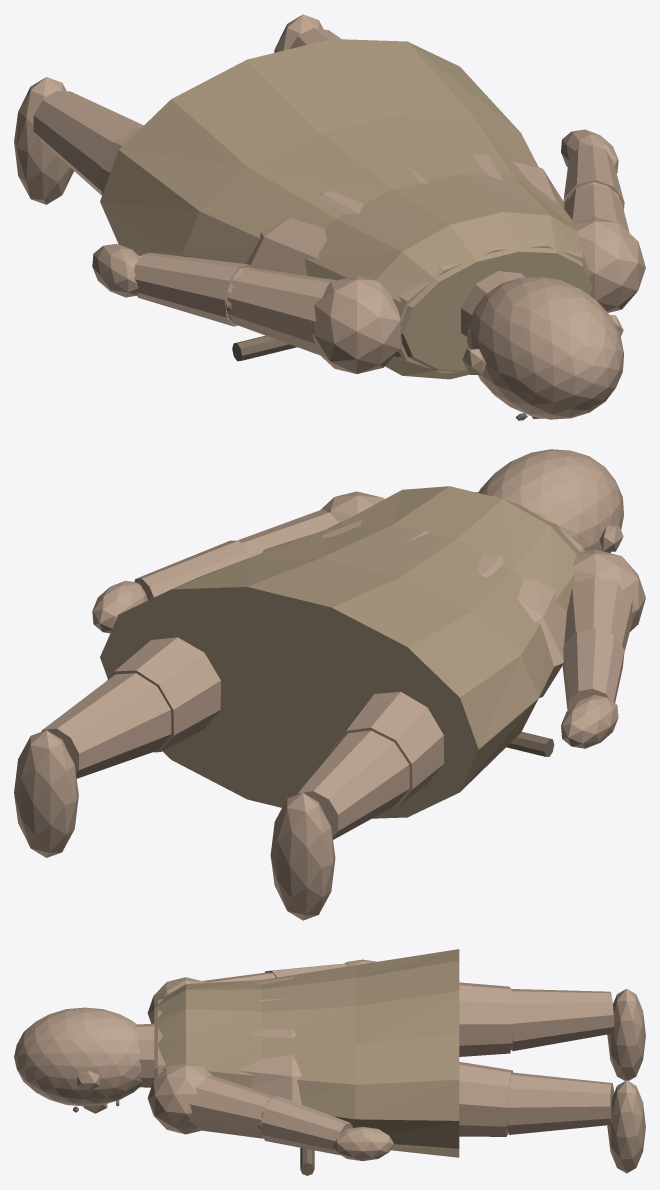
Rendered from woman_stocky__plain_base.glb.
3 renders of one model, top to bottom at view 1: azimuth 30°, elevation 25°; view 2: azimuth 150°, elevation 25°; view 3: azimuth 270°, elevation 25°, orthographic. The views are drawn at different scales.
Visible parts, largest first — view 1: part_027, part_010, part_017, part_008, part_018, part_002, part_020, part_022, part_003, part_025, part_021, part_023 (+5 smaller); view 2: part_027, part_010, part_006, part_002, part_007, part_003, part_004, part_000, part_020, part_008, part_018, part_025 (+6 smaller); view 3: part_027, part_010, part_006, part_002, part_000, part_023, part_004, part_025, part_022, part_007, part_008, part_003 (+7 smaller).
Part boxes in pixels (<box>): part_027: <box>100,39,592,379</box>; part_010: <box>467,276,623,419</box>; part_017: <box>311,276,402,373</box>; part_008: <box>246,152,589,373</box>; part_018: <box>227,267,335,354</box>; part_002: <box>33,90,143,195</box>; part_020: <box>134,252,251,326</box>; part_022: <box>572,217,645,312</box>; part_003: <box>14,77,73,204</box>; part_025: <box>563,145,624,209</box>; part_021: <box>92,243,140,297</box>; part_023: <box>564,183,629,232</box>; part_027: <box>100,486,581,818</box>; part_010: <box>478,449,623,552</box>; part_006: <box>41,673,171,778</box>; part_002: <box>296,730,409,839</box>; part_007: <box>14,730,78,857</box>; part_003: <box>270,793,335,920</box>; part_004: <box>107,637,220,752</box>; part_000: <box>331,691,443,807</box>; part_020: <box>562,627,624,710</box>; part_008: <box>262,496,584,697</box>; part_018: <box>564,577,632,652</box>; part_025: <box>134,540,250,600</box>; part_027: <box>154,949,459,1157</box>; part_010: <box>14,1007,142,1106</box>; part_006: <box>507,1072,613,1134</box>; part_002: <box>511,989,614,1051</box>; part_000: <box>459,982,513,1056</box>; part_023: <box>189,1076,274,1138</box>; part_004: <box>459,1061,512,1136</box>; part_025: <box>261,1096,352,1155</box>; part_022: <box>147,1062,212,1134</box>; part_007: <box>607,1080,645,1173</box>; part_008: <box>158,977,301,1104</box>; part_003: <box>607,988,645,1080</box>.
Bounding box in the file's own units: 1.61 × 0.6435 × 2.37.
